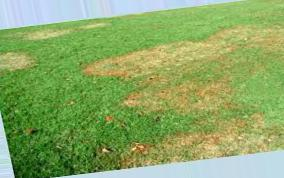patch: (152, 55, 217, 105), (226, 40, 260, 73), (191, 118, 231, 146), (244, 130, 280, 153), (159, 143, 194, 164), (100, 61, 136, 79)
